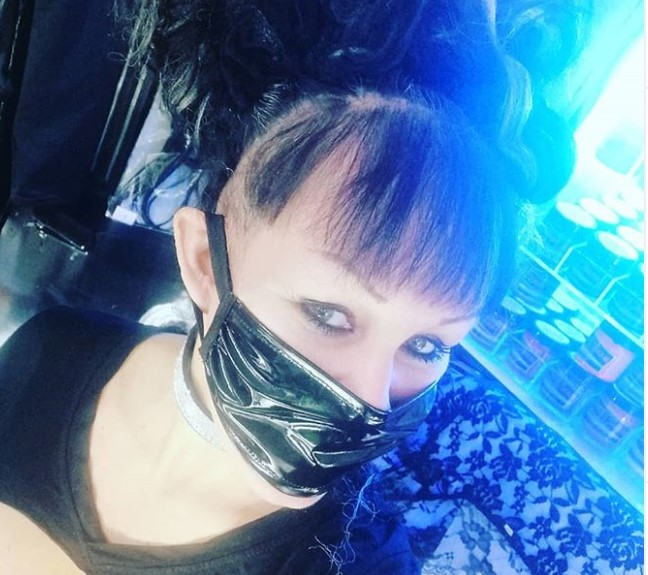face_with_mask: (179, 96, 491, 494)
